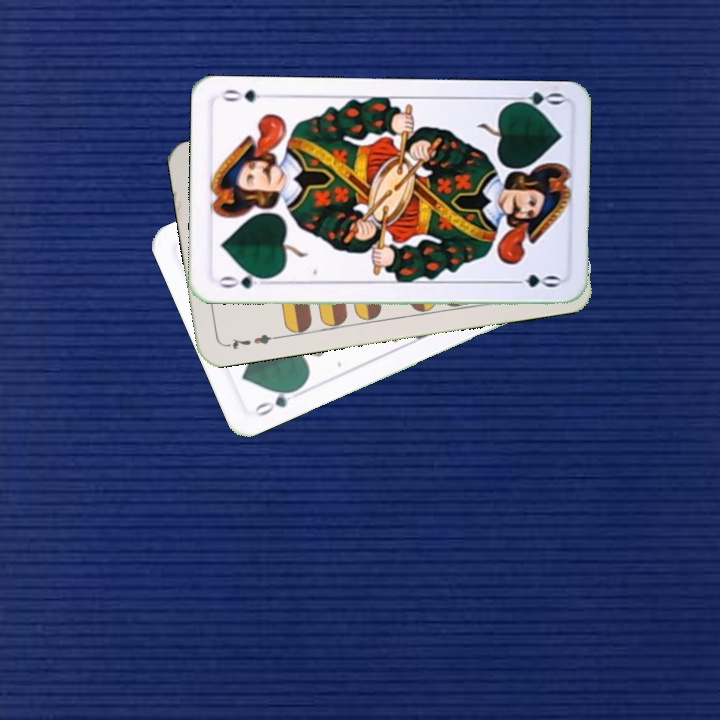E7: (221, 330, 280, 352)
GO: (249, 383, 303, 419), (506, 87, 565, 115), (213, 269, 272, 292)
